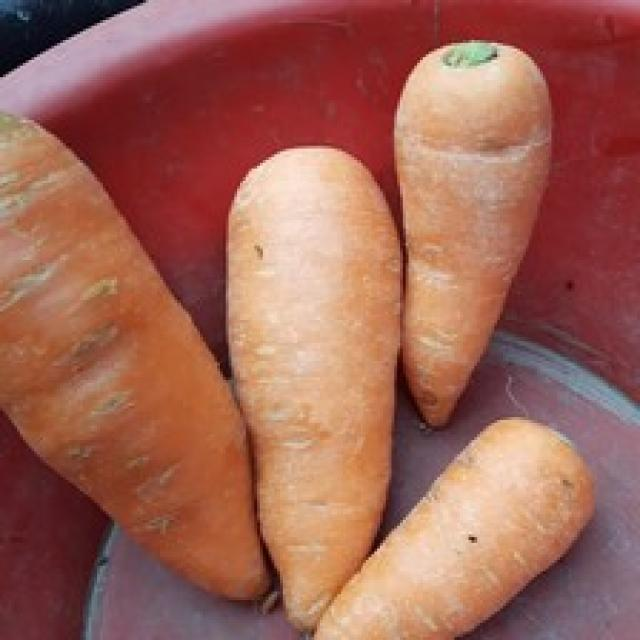Fresh_Carrot: (237, 159, 408, 614), (398, 41, 561, 410)
